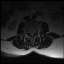CCS_normal: (31, 29, 33, 38)
LFS_stenosis: (34, 29, 36, 34)
LLS_normal: (33, 29, 34, 35)
RFS_stenosis: (27, 29, 29, 34)
RLS_normal: (29, 29, 31, 35)
